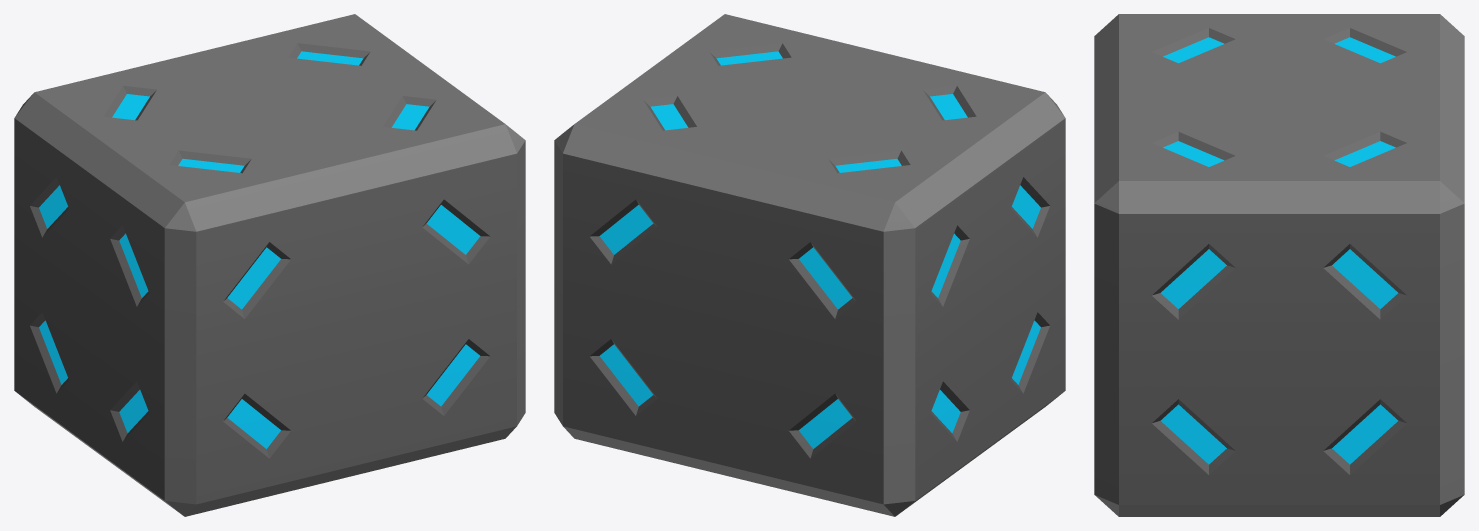
The picture shows the model from 3 angles, left to right: view 1: azimuth 30°, elevation 25°; view 2: azimuth 150°, elevation 25°; view 3: azimuth 270°, elevation 25°; orthographic projection. The views are drawn at different scales.
Parts seen in each view (by area): view 1: Box_005.001; view 2: Box_005.001; view 3: Box_005.001.
Part boxes in pixels (x1,y1,x2,y2): Box_005.001: (14, 14, 525, 516); Box_005.001: (554, 14, 1065, 516); Box_005.001: (1094, 14, 1464, 516).
Size of the model in its own units: 0.72 by 0.6 by 0.6.
Materials: 2 (2 with a texture image).
